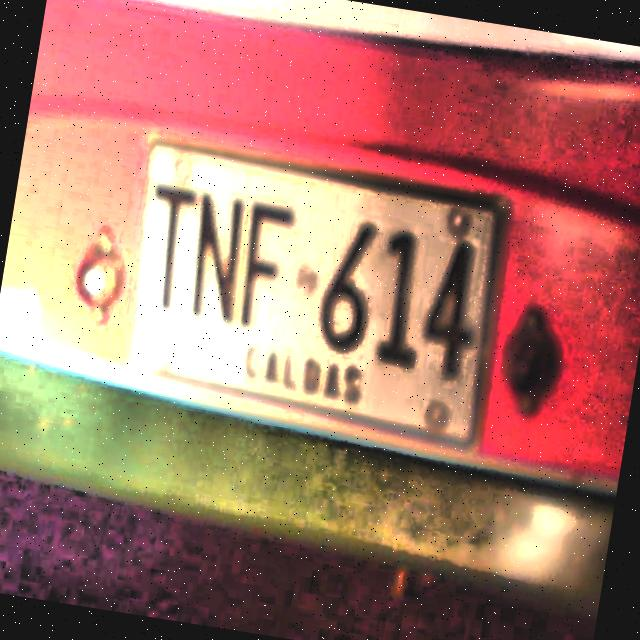plate: (135, 144, 497, 443)
